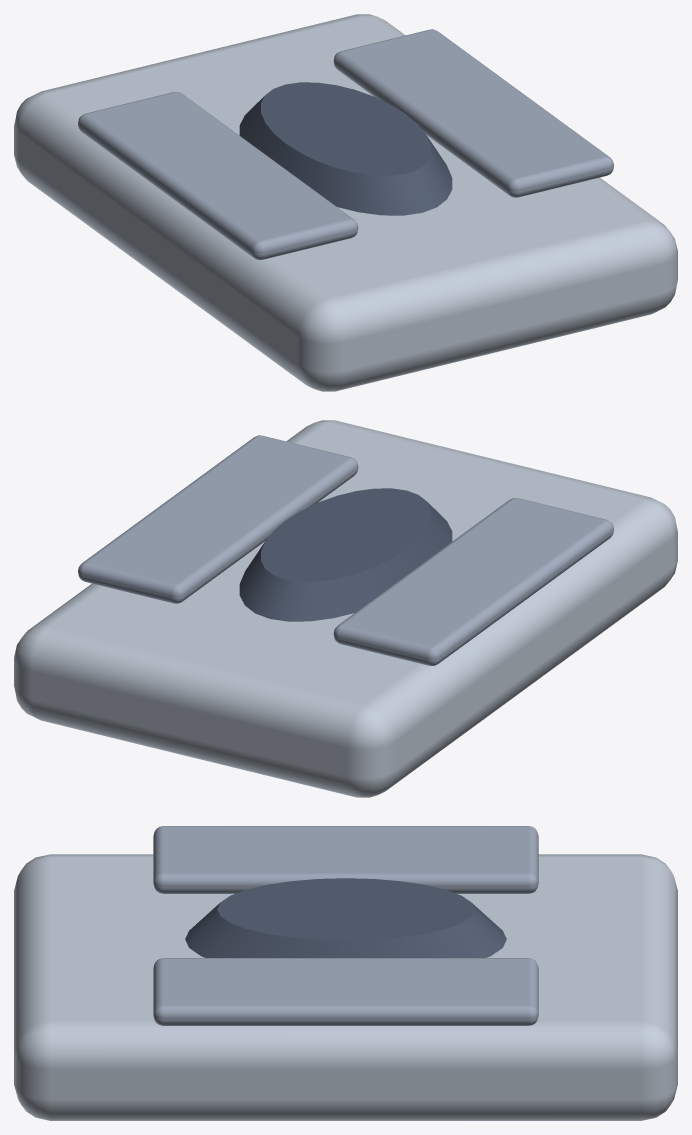
The model's file is squattoilet.glb.
3 renders of one model, top to bottom at view 1: azimuth 30°, elevation 25°; view 2: azimuth 150°, elevation 25°; view 3: azimuth 270°, elevation 25°, orthographic. The views are drawn at different scales.
Parts seen in each view (by area): view 1: squattoilet; view 2: squattoilet; view 3: squattoilet.
Boxes of the visible parts, x1=… form: squattoilet: x1=14, y1=14, x2=677, y2=391; squattoilet: x1=14, y1=420, x2=677, y2=797; squattoilet: x1=14, y1=826, x2=677, y2=1120.
Bounding box in the file's own units: 0.45 × 0.1368 × 0.65.
